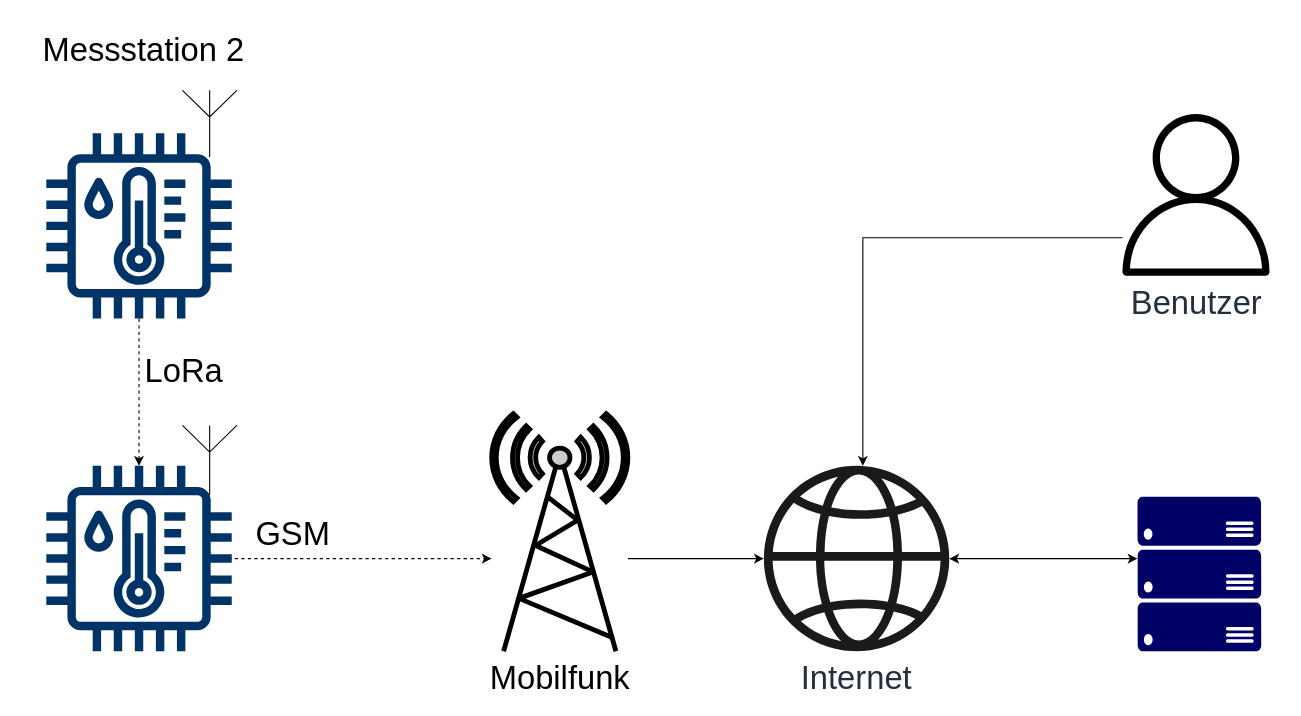
This 1301x716 diagram has some shape labels left out. Each missing label, with the box of its shape:
Messstation 1: (46, 465, 231, 651)
Server: (1137, 496, 1261, 651)
